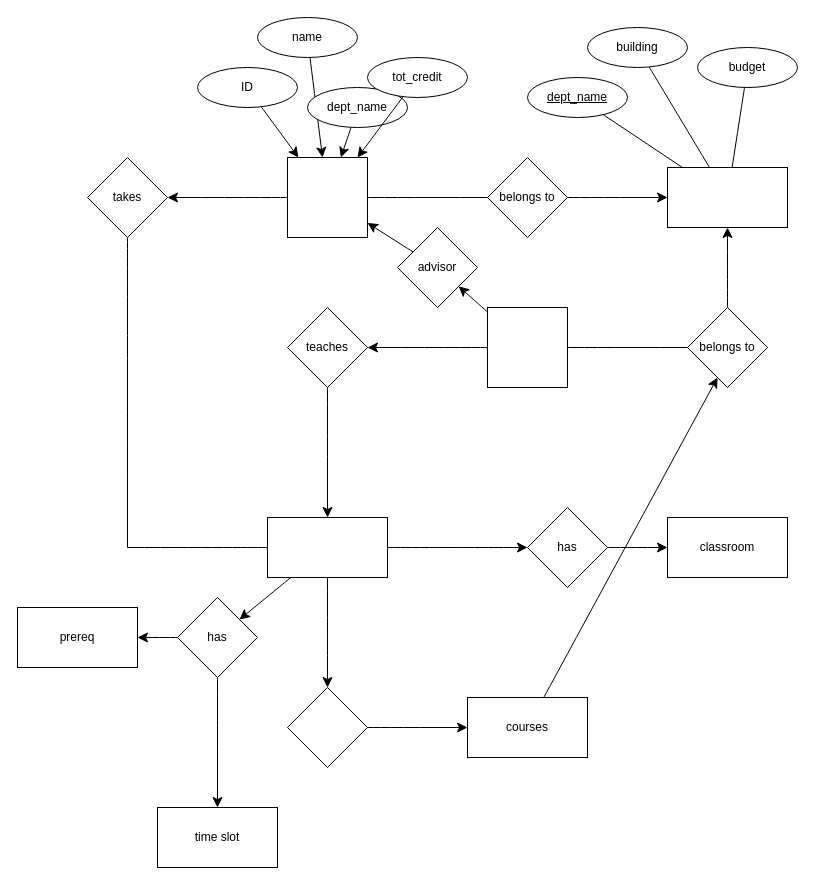
This 815x885 diagram has some shape labels left out. The centre of each missing label's shape, as x and y in pixels:
"assign" belongs at point (327, 727).
"department" belongs at point (727, 197).
"instructor" belongs at point (527, 347).
"section" belongs at point (327, 547).
"student" belongs at point (327, 197).
